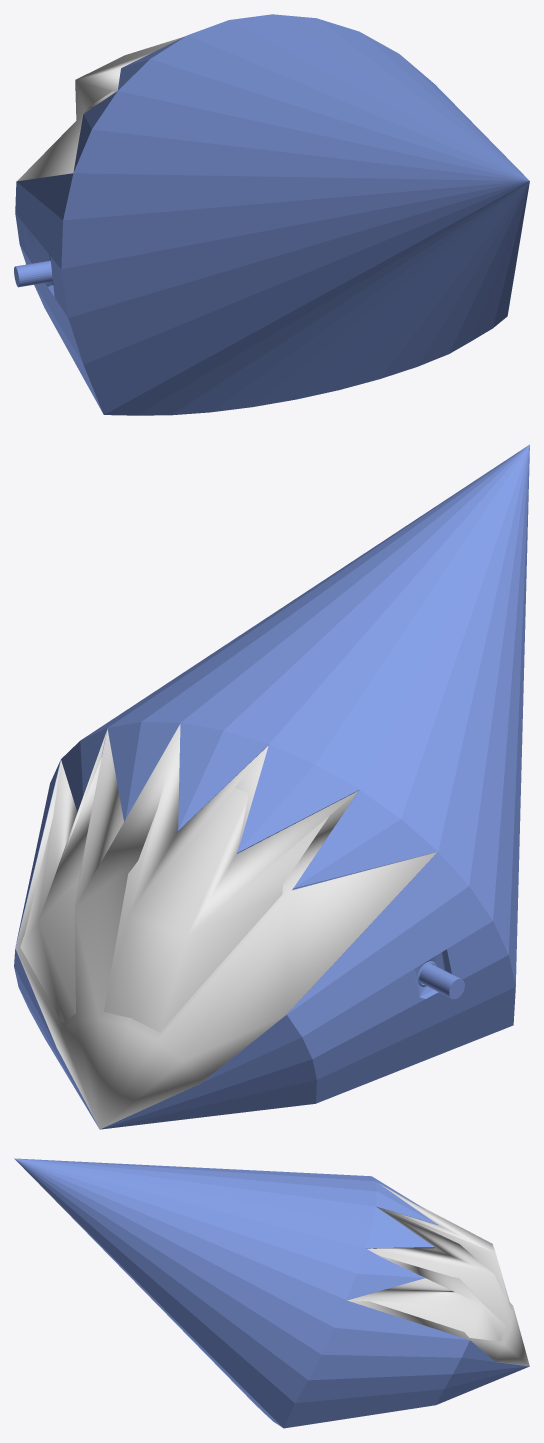
The model's file is Cockpit9.fbx.
The picture shows the model from 3 angles, top to bottom: view 1: azimuth 30°, elevation 25°; view 2: azimuth 150°, elevation 25°; view 3: azimuth 270°, elevation 25°; orthographic projection. The views are drawn at different scales.
Visible parts, largest first — view 1: Cone, Cone.001; view 2: Cone, Cone.001; view 3: Cone, Cone.001.
Boxes of the visible parts, left/top/right/bottom form: Cone: left=14, top=14, right=529, bottom=415; Cone.001: left=17, top=36, right=184, bottom=181; Cone: left=14, top=444, right=529, bottom=1129; Cone.001: left=15, top=724, right=436, bottom=1128; Cone: left=14, top=1158, right=529, bottom=1428; Cone.001: left=347, top=1183, right=529, bottom=1365.
Bounding box in the file's own units: 7187 × 5415 × 11998.
